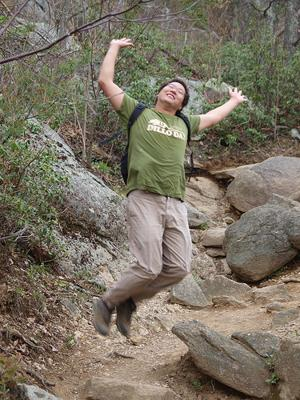person: (92, 36, 251, 335)
